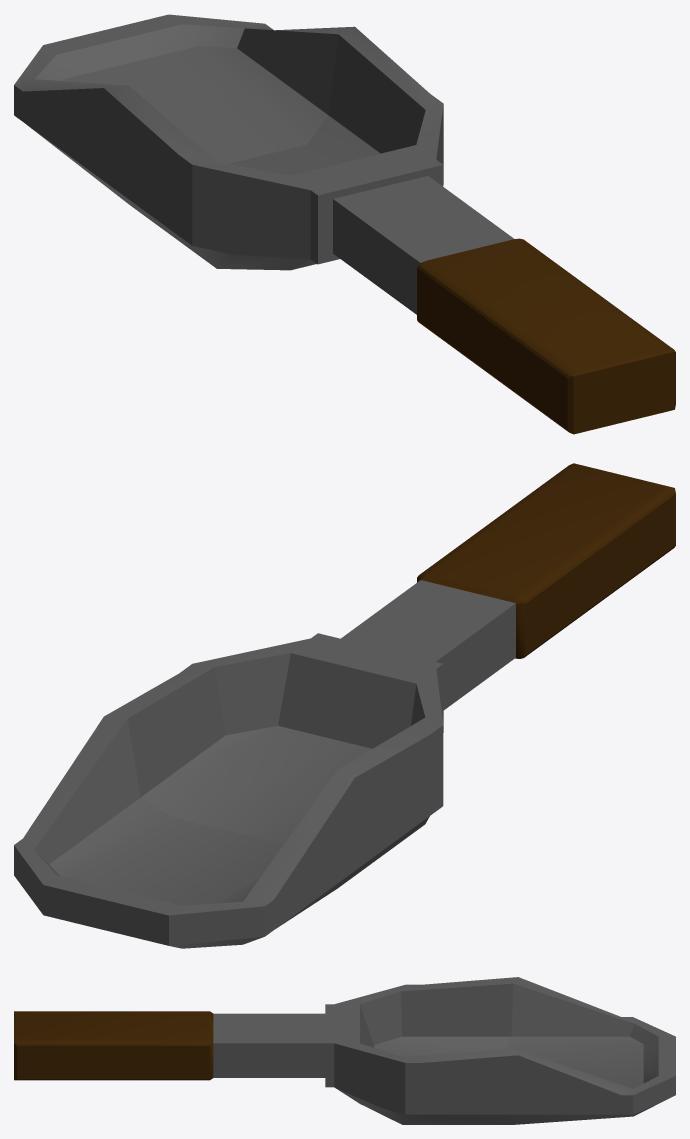
Rendered from PALA.fbx.
3 views of the same model, one above another, from view 1: azimuth 30°, elevation 25°; view 2: azimuth 150°, elevation 25°; view 3: azimuth 270°, elevation 25° (orthographic). The views are drawn at different scales.
Visible parts, largest first — view 1: pala.001; view 2: pala.001; view 3: pala.001.
Boxes of the visible parts, <box> form: pala.001: <box>14,14,675,434</box>; pala.001: <box>14,463,675,948</box>; pala.001: <box>14,977,675,1124</box>.
Bounding box in the file's own units: 9.31 × 4.21 × 33.3.
